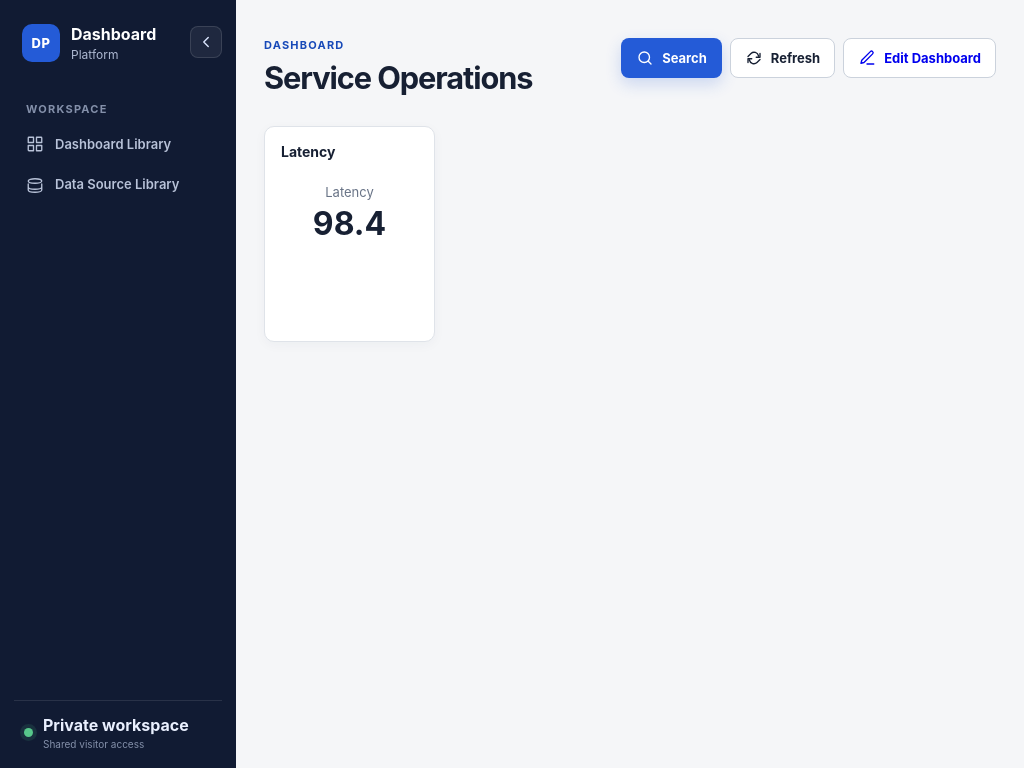
it: DashboardViewer search and refresh › clears a widget's previous result when its refresh fails
Expected: the heading "Latency" is shown, [281,143,336,160]
Click the button "Search": (672, 58) [621,38,722,78]
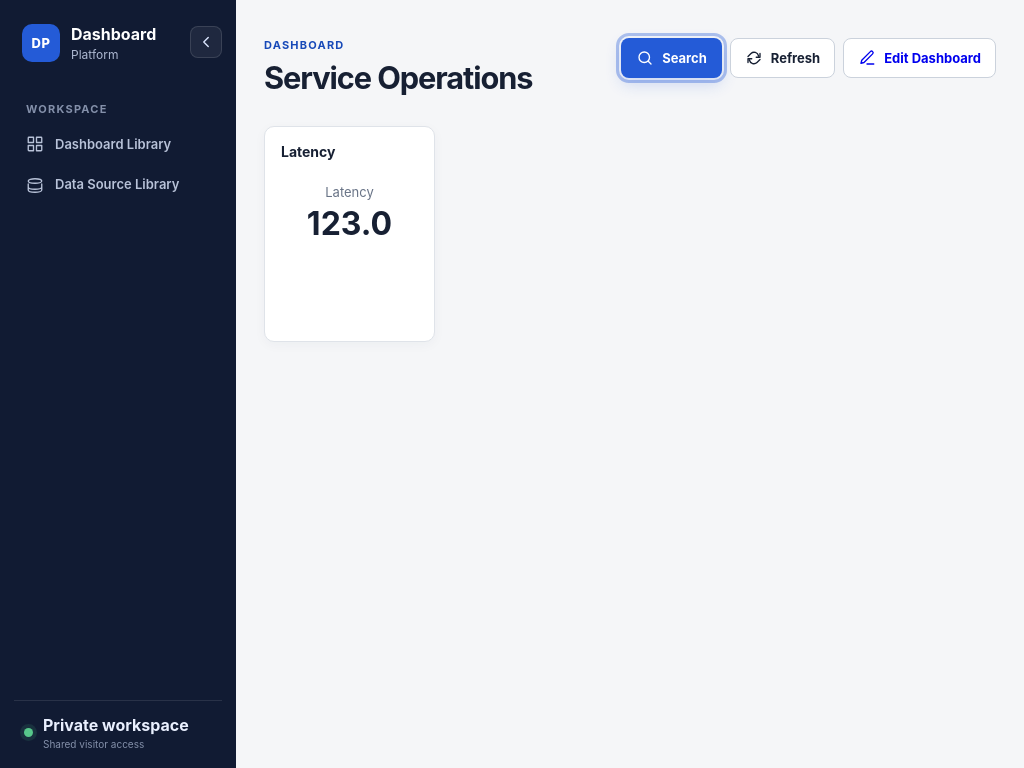
Expected: the text "123.0" is shown, [307,204,392,243]
Click the button "Refresh": (782, 58) [730,38,835,78]
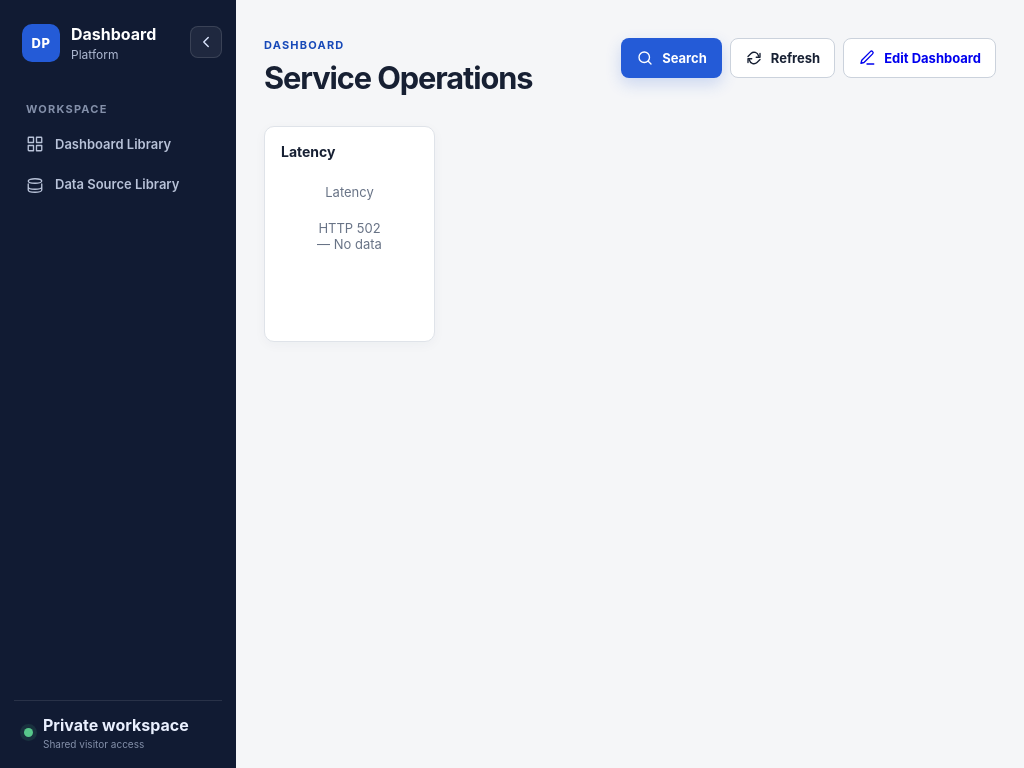
Expected: the text "123.0" is gone
Expected: the text "HTTP 502 — No data" is shown, [317,220,382,252]
